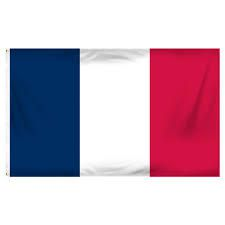French Flag: (6, 48, 220, 177)
